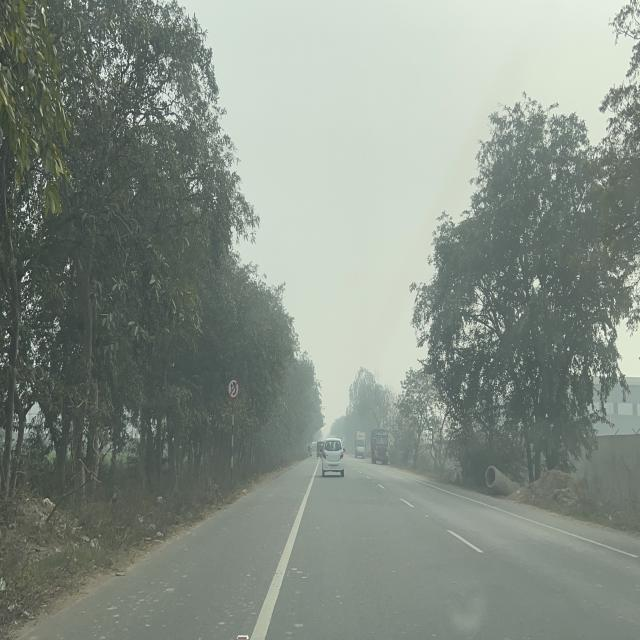OVERTAKING_PROHIBITED: (228, 377, 240, 399)
